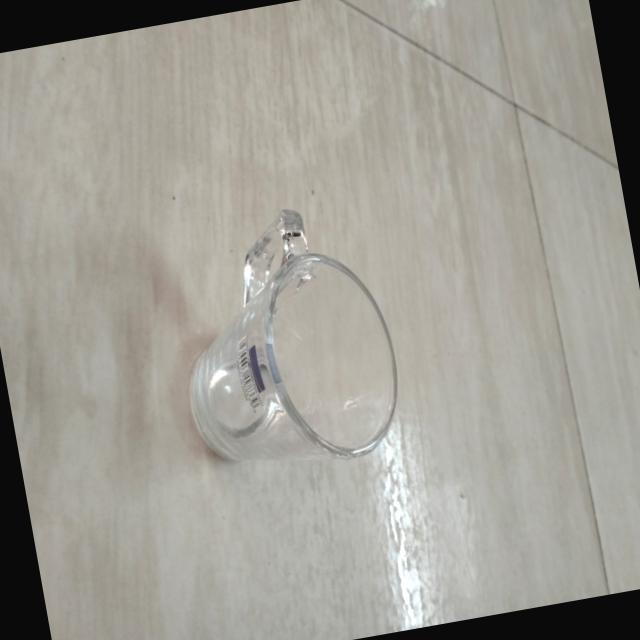glass-VX4N: (155, 186, 413, 489)
